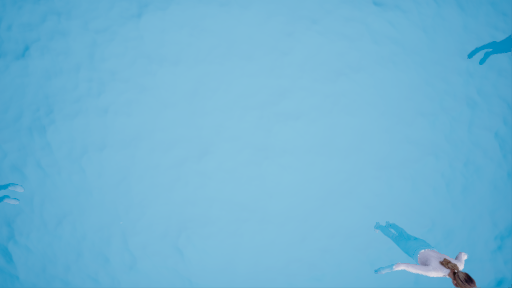person: (361, 217, 481, 288)
